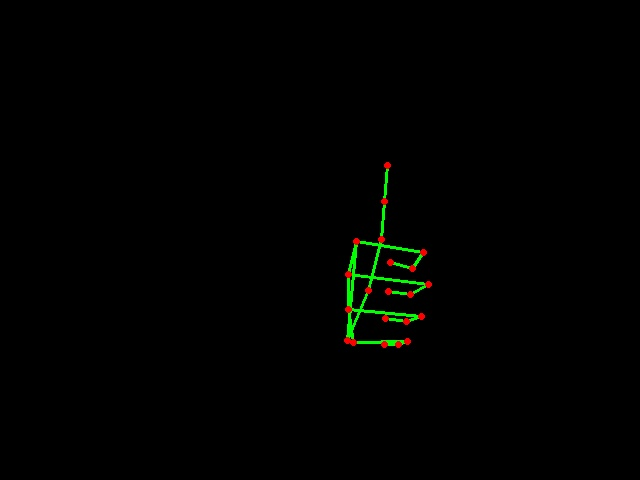fast: (340, 152, 436, 360)
